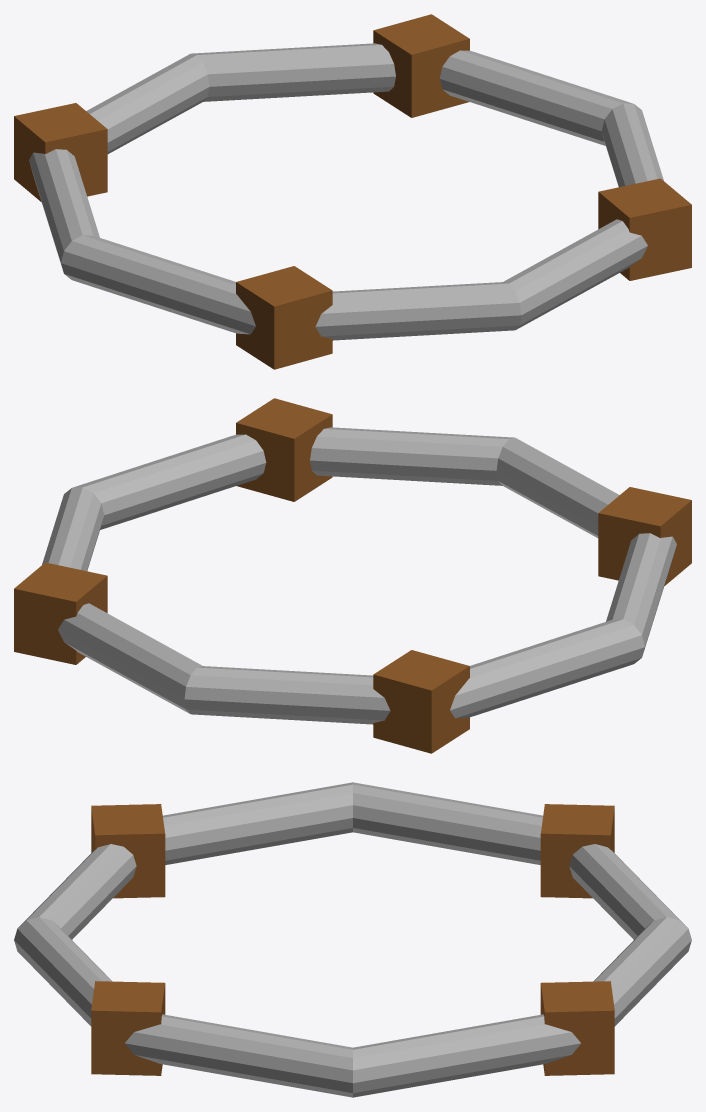
The model's file is station_ring.fbx.
The picture shows the model from 3 angles, top to bottom: view 1: azimuth 30°, elevation 25°; view 2: azimuth 150°, elevation 25°; view 3: azimuth 270°, elevation 25°; orthographic projection.
Visible parts, largest first — view 1: Torus.001, Cube; view 2: Torus.001, Cube; view 3: Torus.001, Cube.
Part boxes in pixels (x1=…): Torus.001: x1=29, y1=43, x2=663, y2=340; Cube: x1=14, y1=14, x2=691, y2=369; Torus.001: x1=42, y1=427, x2=676, y2=724; Cube: x1=14, y1=398, x2=691, y2=753; Torus.001: x1=14, y1=782, x2=691, y2=1097; Cube: x1=91, y1=804, x2=614, y2=1075.
Size of the model in its own units: 417 by 43.06 by 417.
